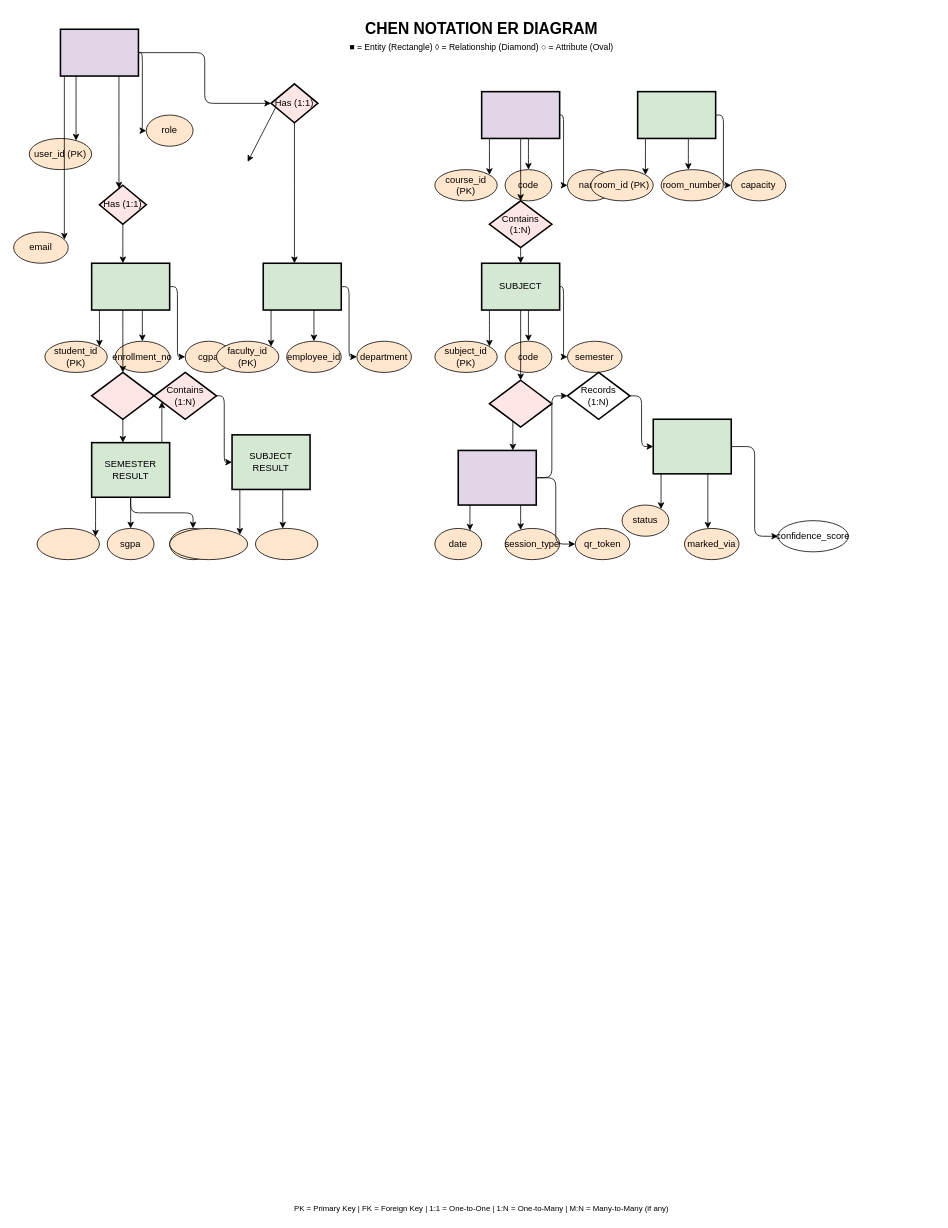
The diagram is 948 pixels wide and 1228 high, and some of its shapes have lost their labels. The box of each missing label's shape, as (x1, y1, x2, y2) in pixels:
ATTENDANCE RECORD: (652, 418, 732, 474)
COURSE: (480, 90, 560, 139)
Earns (1:N): (90, 371, 154, 420)
FACULTY: (262, 262, 342, 310)
LECTURE SESSION: (457, 449, 537, 505)
result_id (PK): (36, 528, 99, 560)
ROOM: (636, 90, 716, 139)
STUDENT: (90, 262, 170, 310)
subject_result_id (PK): (169, 528, 248, 560)
Teaches (1:N): (488, 379, 552, 427)
total_marks: (255, 528, 318, 560)
USER: (59, 28, 139, 76)
